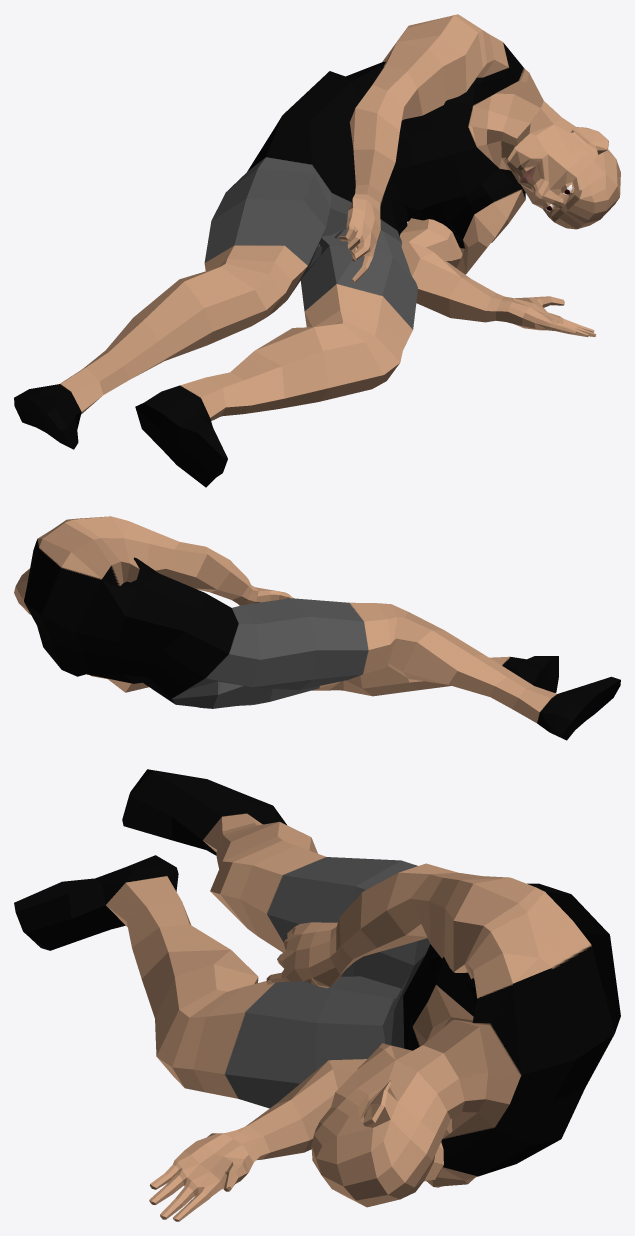
Rendered from PlayerDead(96).obj.
The picture shows the model from 3 angles, top to bottom: view 1: azimuth 30°, elevation 25°; view 2: azimuth 150°, elevation 25°; view 3: azimuth 270°, elevation 25°; orthographic projection. The views are drawn at different scales.
Parts seen in each view (by area): view 1: Plane002; view 2: Plane002; view 3: Plane002.
Boxes of the visible parts, x1=… form: Plane002: x1=14, y1=14, x2=620, y2=487; Plane002: x1=14, y1=516, x2=620, y2=740; Plane002: x1=14, y1=769, x2=620, y2=1221.
Size of the model in its own units: 1578 by 549 by 928.
